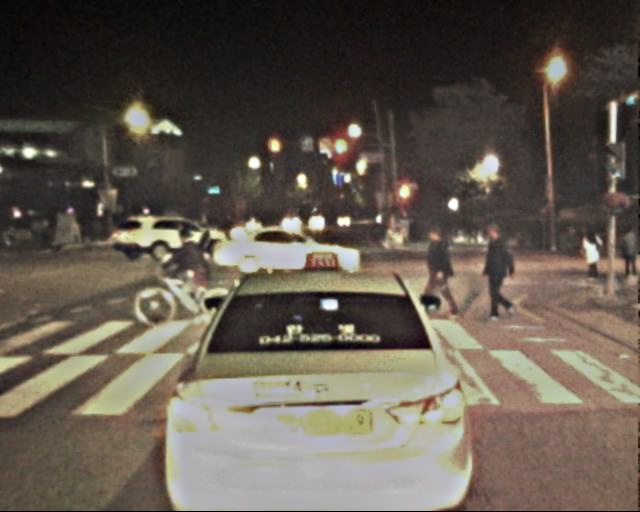person: (480, 226, 521, 325), (420, 231, 459, 325), (168, 226, 204, 313), (578, 225, 605, 290), (616, 226, 640, 286)
